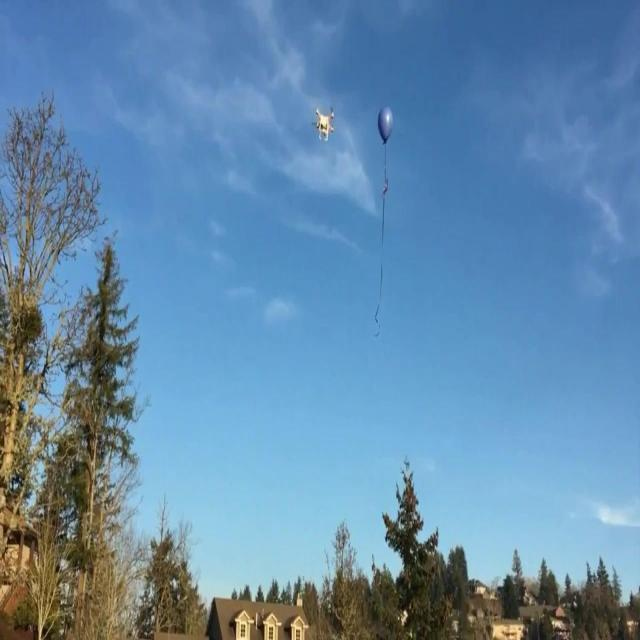UAV: (316, 107, 334, 141)
